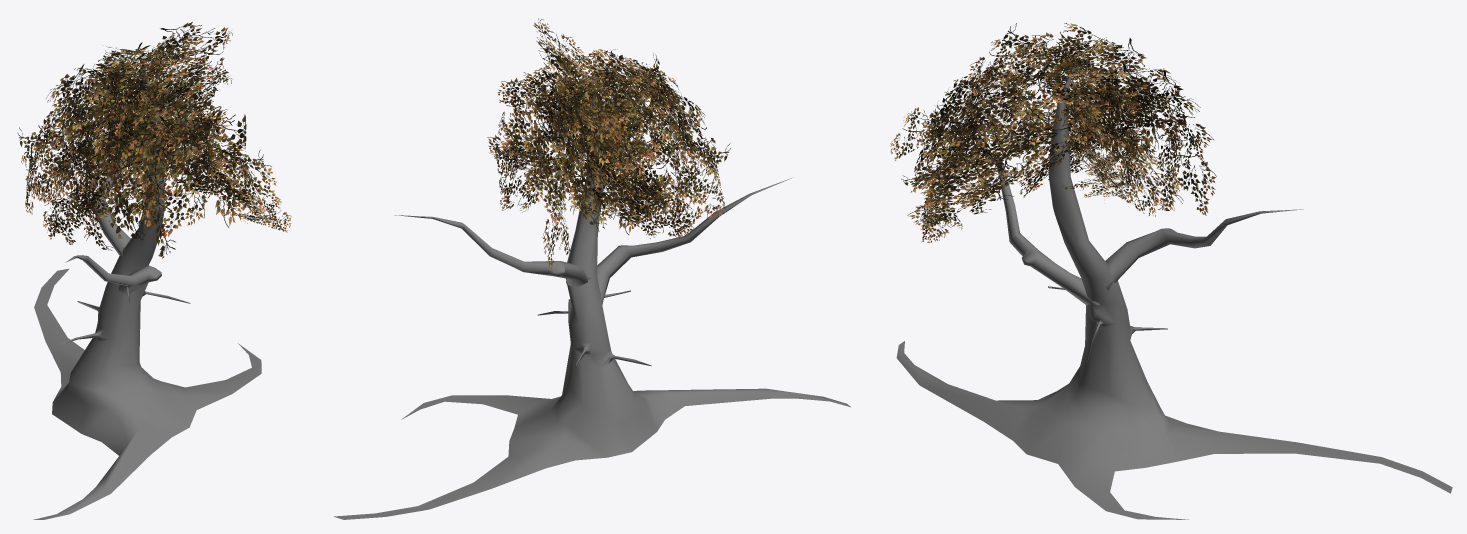
Rendered from ekatree_lod1.fbx.
3 views of the same model, side by side, from view 1: azimuth 30°, elevation 25°; view 2: azimuth 150°, elevation 25°; view 3: azimuth 270°, elevation 25° (orthographic). The views are drawn at different scales.
Parts seen in each view (by area): view 1: Default_Layer; view 2: Default_Layer; view 3: Default_Layer.
Boxes of the visible parts, bbox=[...] form: Default_Layer: bbox=[17, 21, 291, 519]; Default_Layer: bbox=[334, 18, 850, 519]; Default_Layer: bbox=[890, 23, 1452, 519].
Bounding box in the file's own units: 856 × 947 × 1154.
